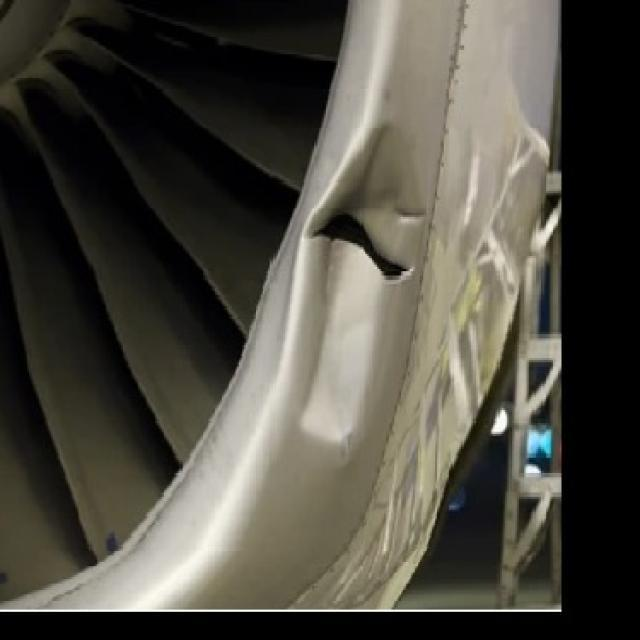crack: (296, 207, 428, 283)
